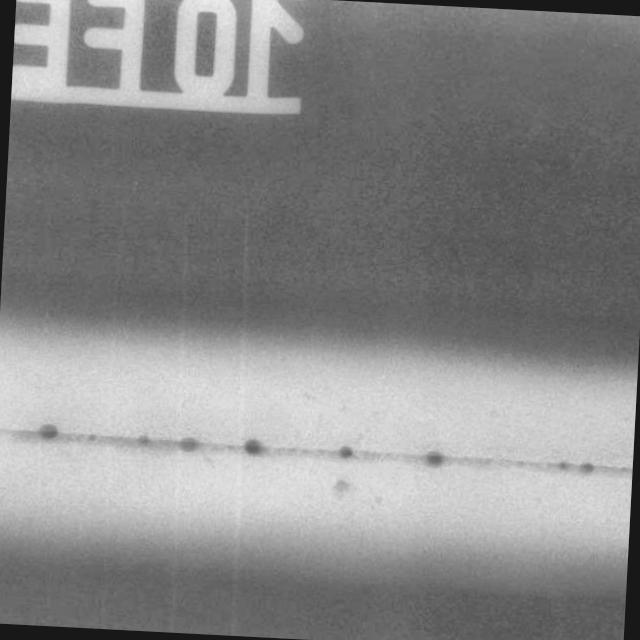LoP-LoF: (0, 408, 634, 515)
